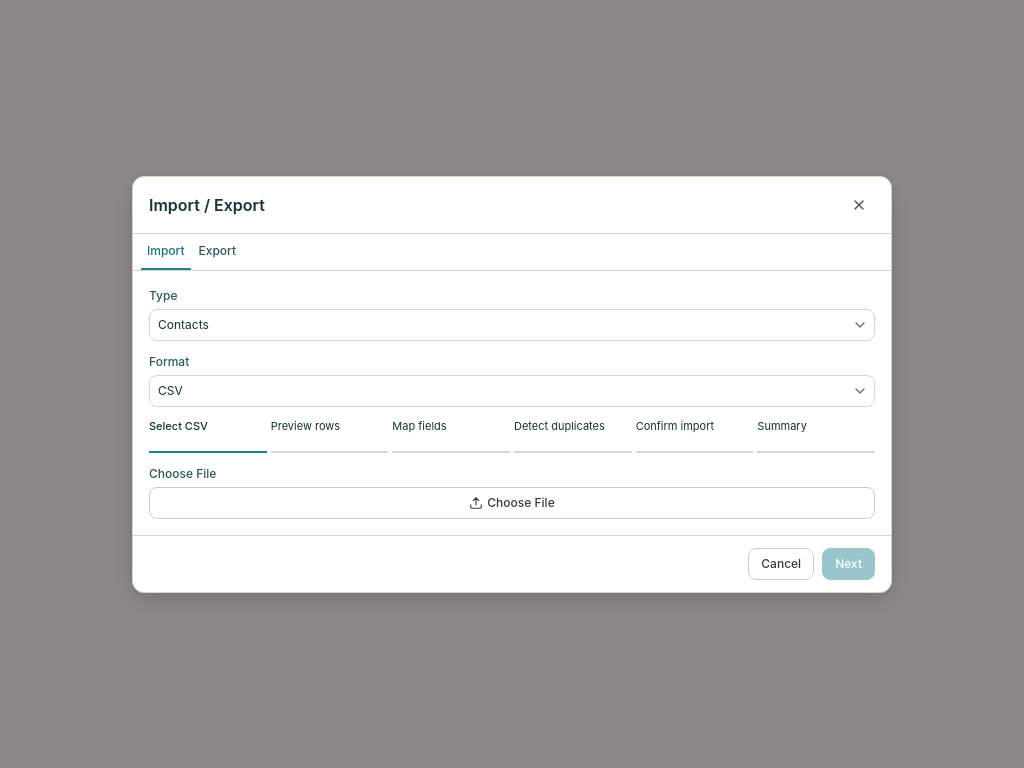
Test: ImportExport component › previews JSON imports before duplicate preflight and confirmation
The width and height of the screenshot is (1024, 768).
Select "JSON" in the dropdown labelled "Format": (512, 390) [149,374,875,406]
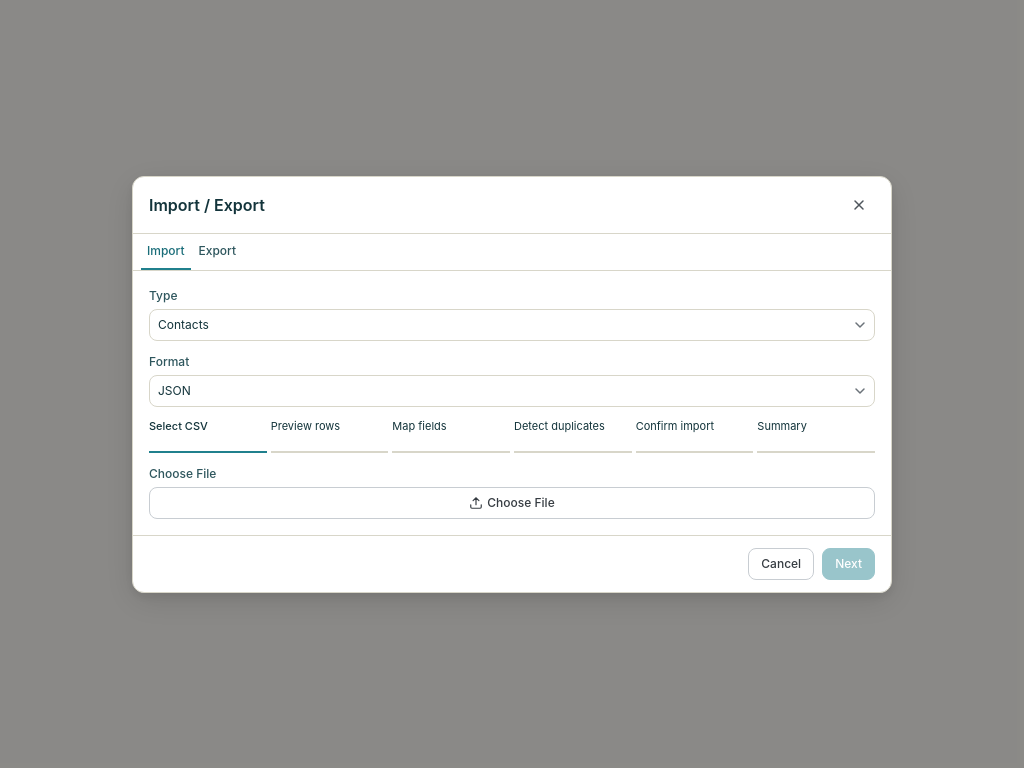
Click the button "Choose File": (512, 502) [149,486,875,518]
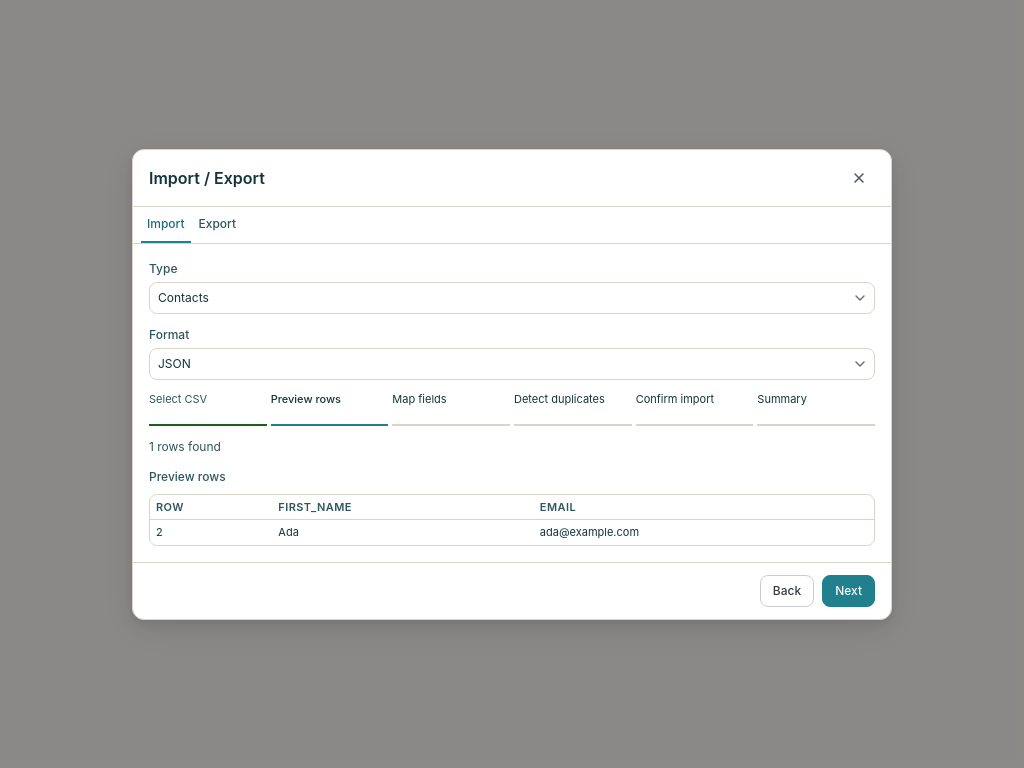
Now the text "Ada" is shown, box [272,520,534,544]
Now the text "ada@example.com" is shown, box [534,520,874,544]
Click the button "Next": (849, 590) [822,574,875,606]
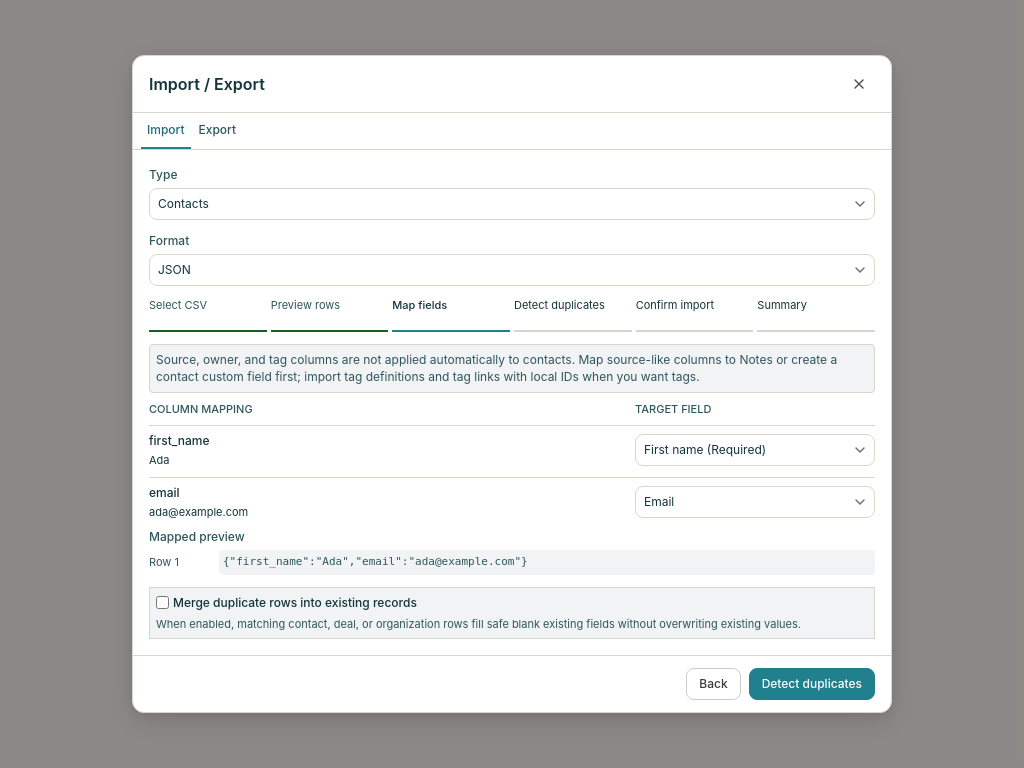
Now the text "Column Mapping" is shown, box [149,402,253,416]
Now the dropdown named "Map to field: first_name" is shown, box [635,434,875,466]
Now the dropdown named "Map to field: email" is shown, box [635,486,875,518]
Click the button "Detect duplicates": (812, 684) [749,668,875,700]
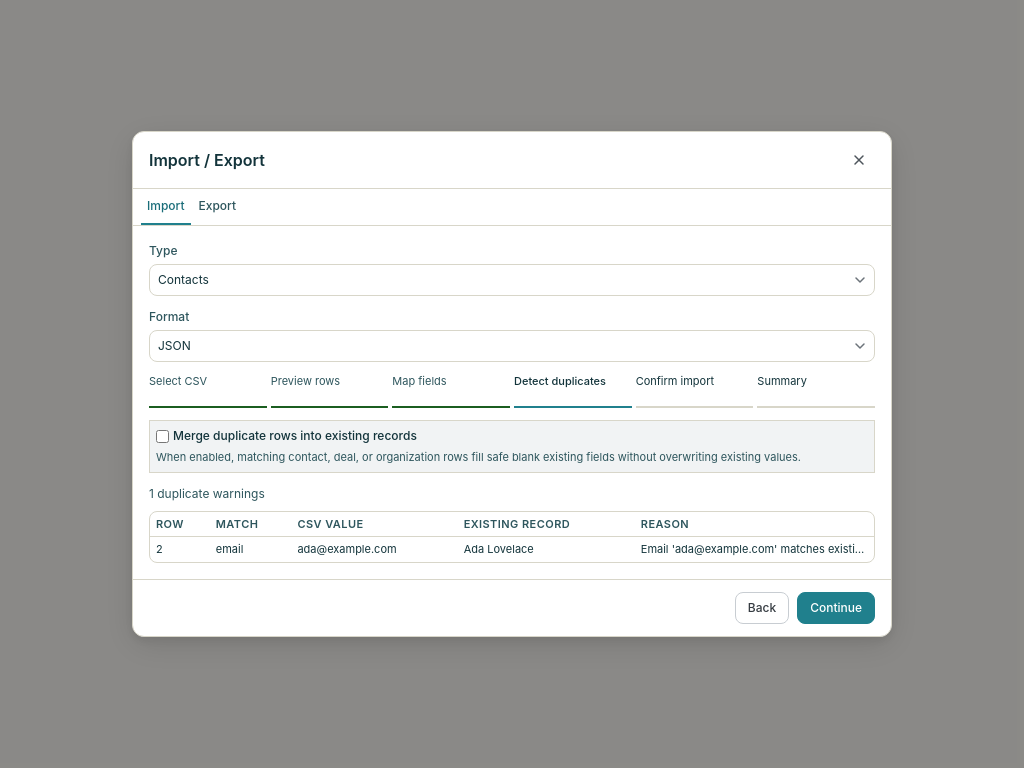
Now the text "1 duplicate warnings" is shown, box [149,486,265,501]
Now the text "Ada Lovelace" is shown, box [458,537,635,562]
Click the button "Continue": (836, 608) [797,592,875,624]
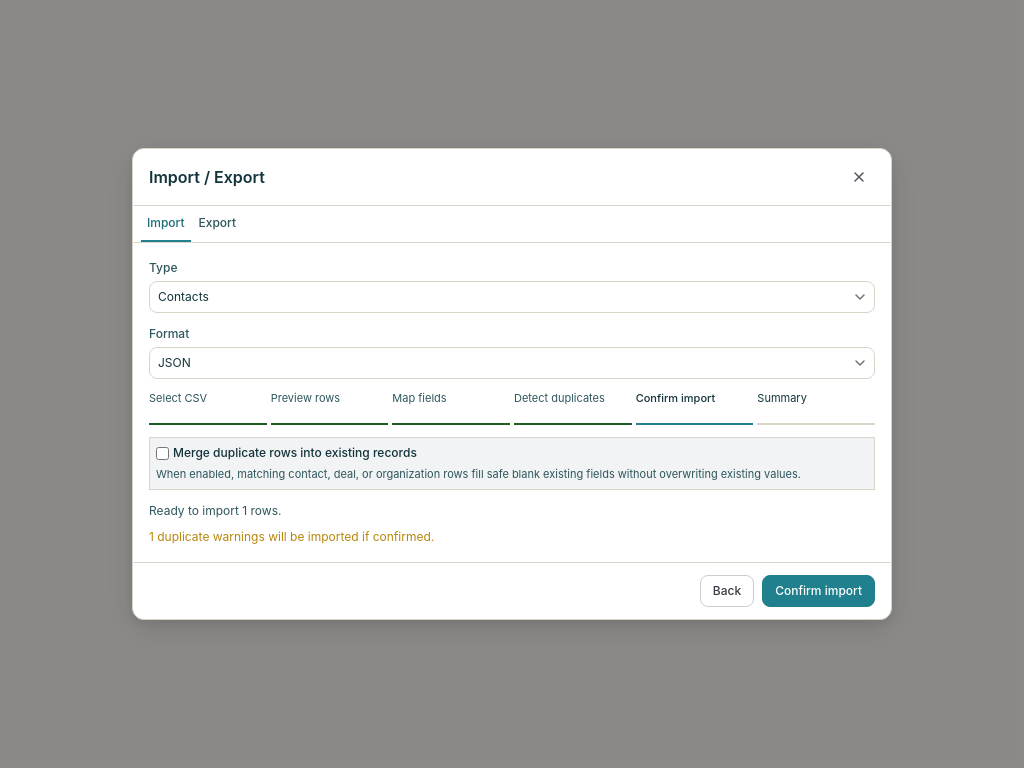
Click the button "Confirm import": (819, 591) [762,575,875,607]
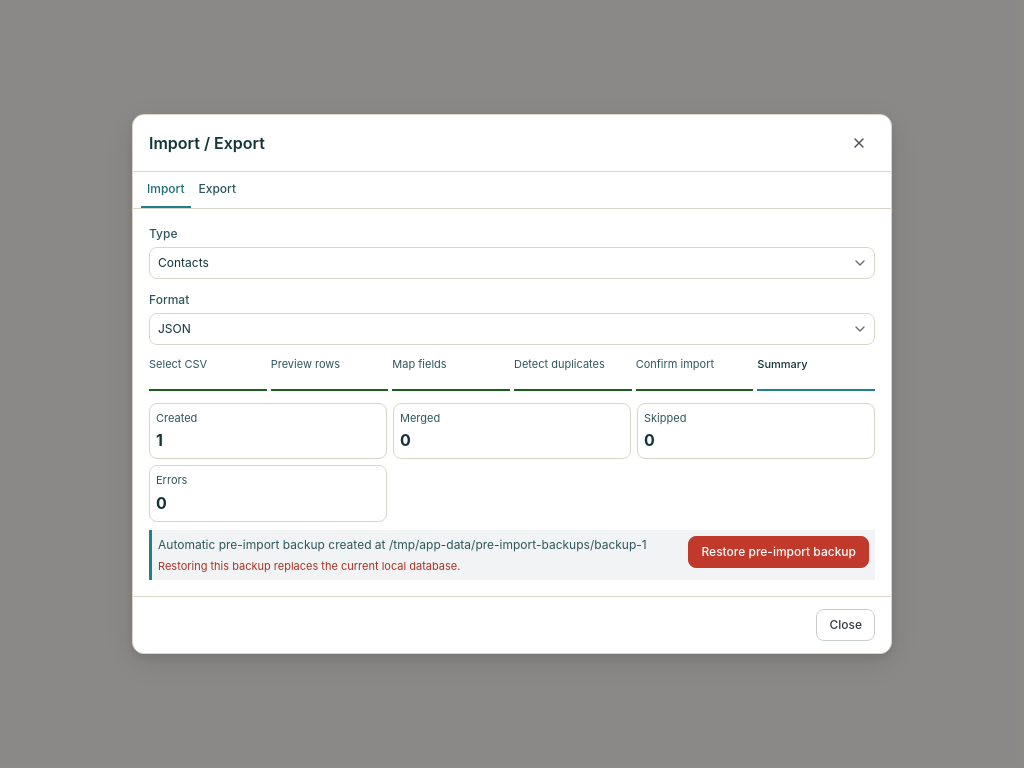
Now the button "Restore pre-import backup" is shown, box [688,536,869,568]
